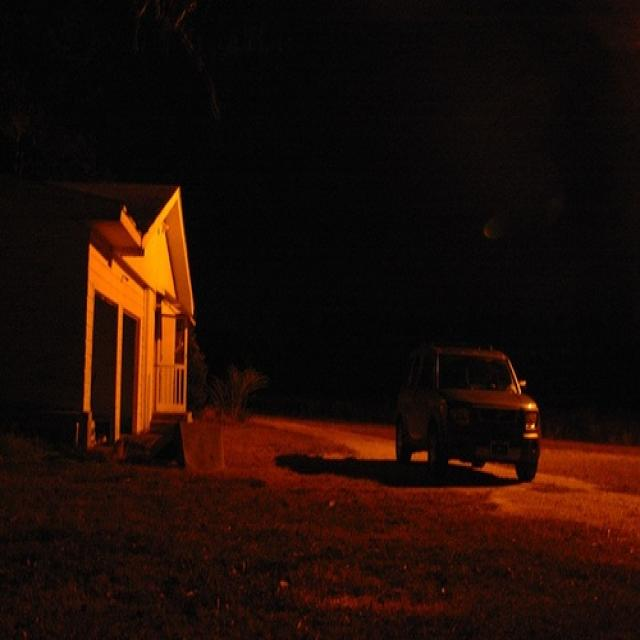Car: (377, 351, 559, 503)
